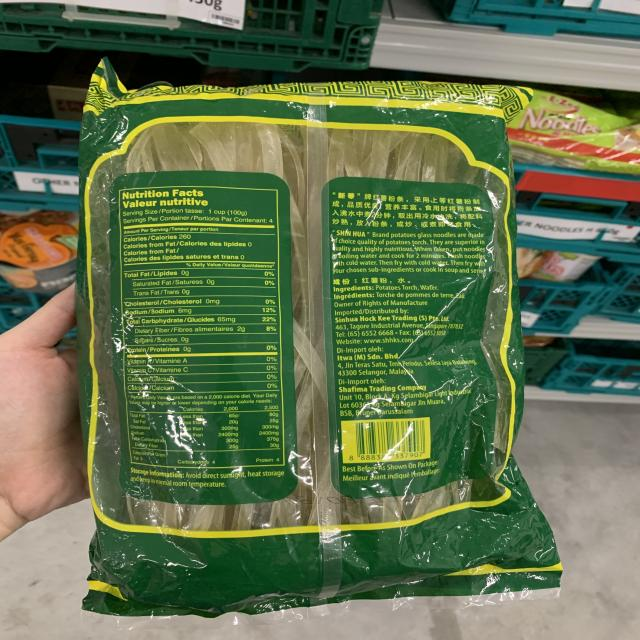object_name: (115, 87, 517, 586)
